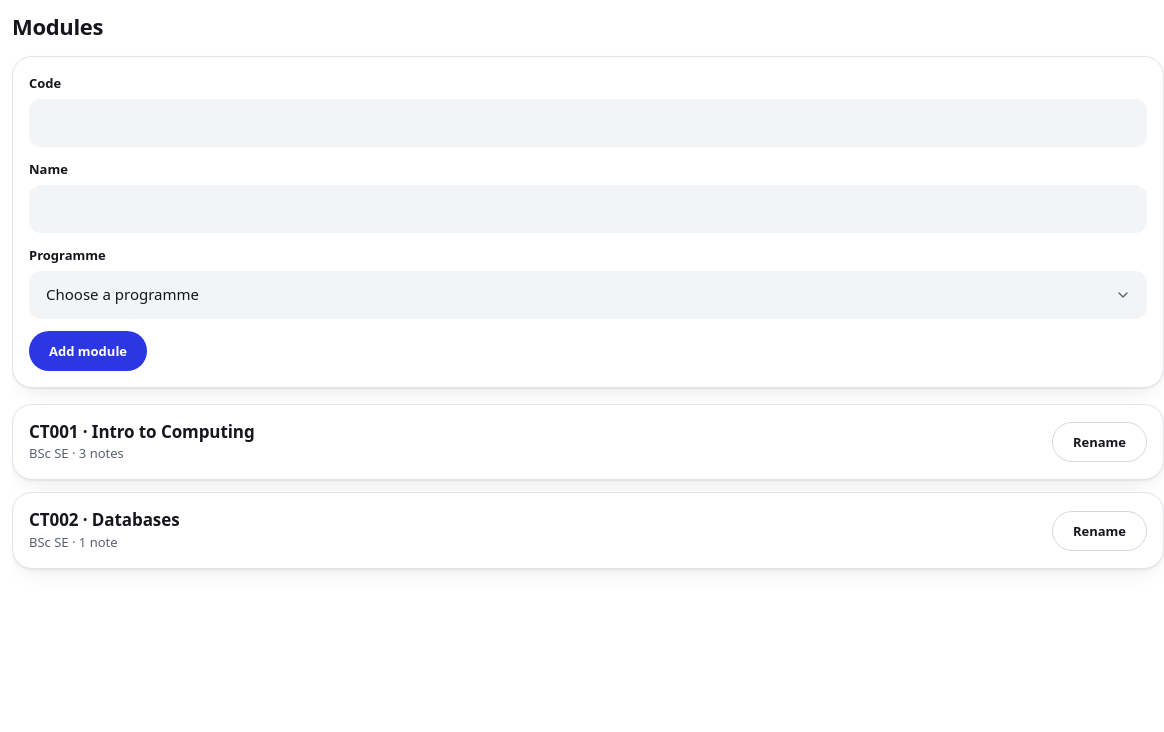
admin modules › CLI-TC89: a duplicate code shows the server message and adds no row
expect the text "CT001 · Intro to Computing" is shown: met, box [29,421,255,443]
Click the button "Add module".
click(88, 351)  # box [29,331,147,371]
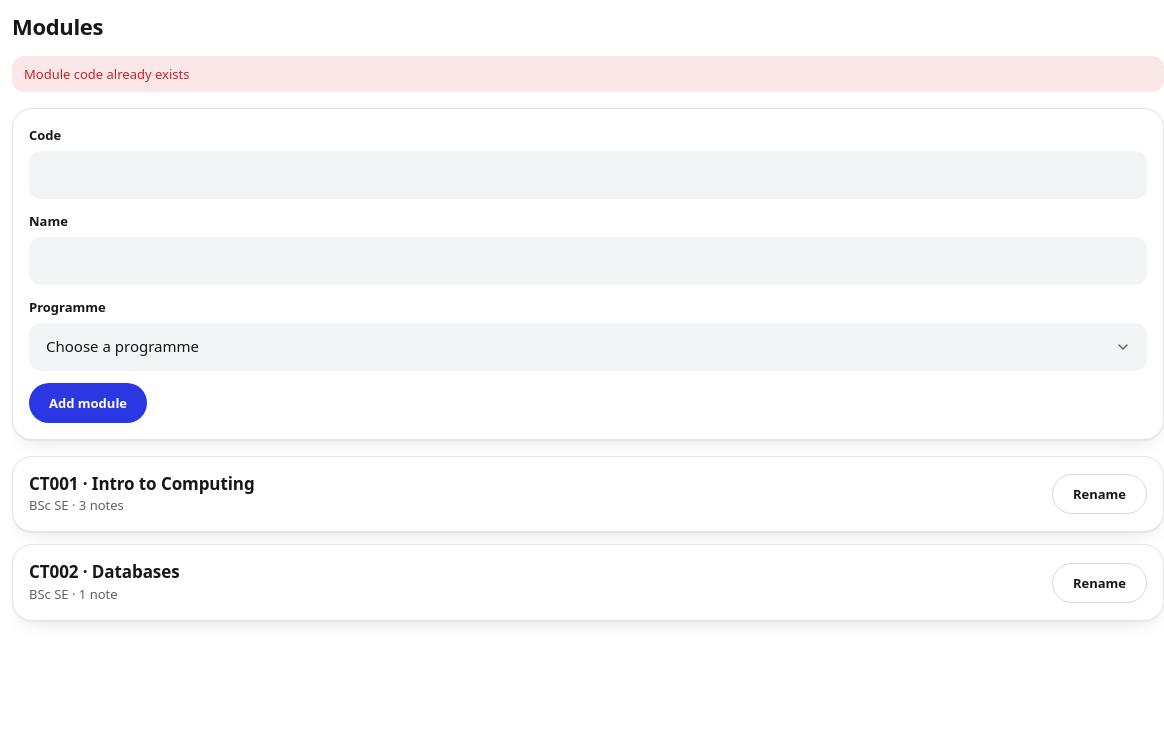
expect the number of list items is 2: met, box [12,456,1163,532]; [12,544,1163,621]
expect the message reads "Module code already exists": met, box [24,65,189,83]
